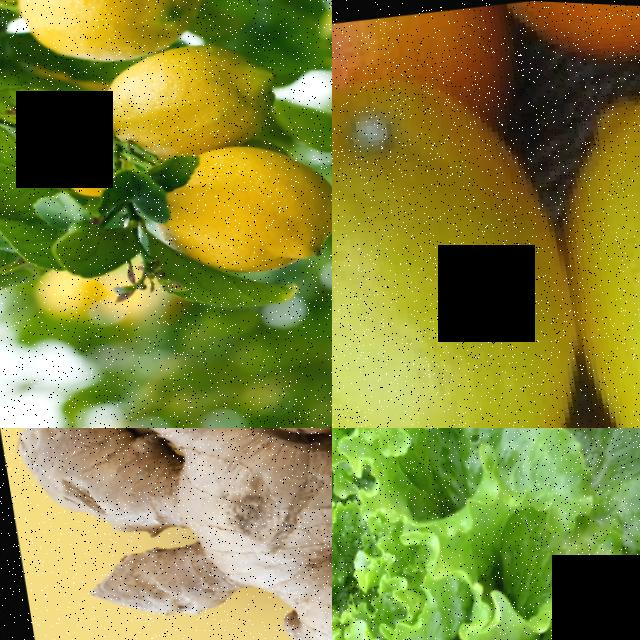ginger: (0, 428, 332, 640)
lemon: (332, 47, 603, 428), (538, 54, 640, 428), (159, 123, 332, 283), (95, 31, 278, 161), (7, 0, 198, 69)
lettuce: (332, 428, 640, 640)
